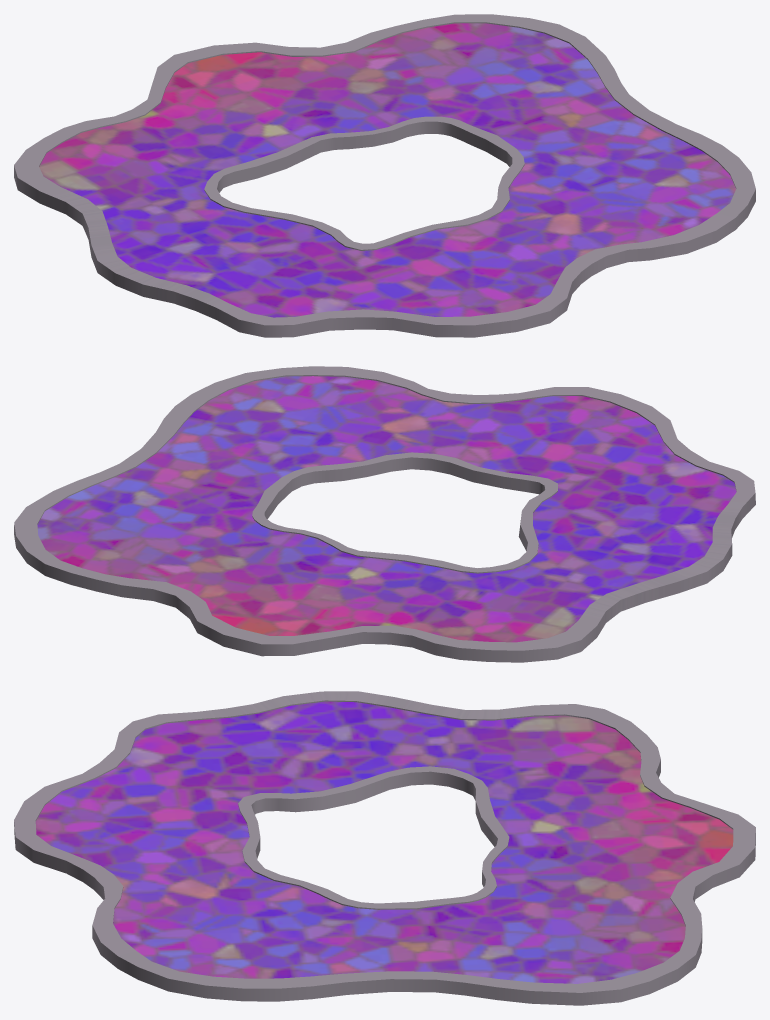
The model's file is objects_un_t04pottery01_01.gltf.
3 renders of one model, top to bottom at view 1: azimuth 30°, elevation 25°; view 2: azimuth 150°, elevation 25°; view 3: azimuth 270°, elevation 25°, orthographic. The views are drawn at different scales.
Visible parts, largest first — view 1: pottery01_01_shape:objects_un_t04pottery01_obj02, pottery01_01_shape:objects_un_t04pottery01_obj01; view 2: pottery01_01_shape:objects_un_t04pottery01_obj02, pottery01_01_shape:objects_un_t04pottery01_obj01; view 3: pottery01_01_shape:objects_un_t04pottery01_obj02, pottery01_01_shape:objects_un_t04pottery01_obj01.
Part boxes in pixels (x1,y1,x2,y2): pottery01_01_shape:objects_un_t04pottery01_obj02: (39, 23, 735, 317); pottery01_01_shape:objects_un_t04pottery01_obj01: (14, 14, 755, 337); pottery01_01_shape:objects_un_t04pottery01_obj02: (37, 376, 736, 642); pottery01_01_shape:objects_un_t04pottery01_obj01: (14, 366, 755, 662); pottery01_01_shape:objects_un_t04pottery01_obj02: (35, 701, 733, 983); pottery01_01_shape:objects_un_t04pottery01_obj01: (14, 691, 755, 1005).
Size of what is drawn, in the model's own units: 5.57 by 0.11 by 5.79.
2 materials, 2 textured.
